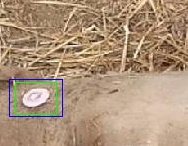text: (15, 82, 56, 114)
